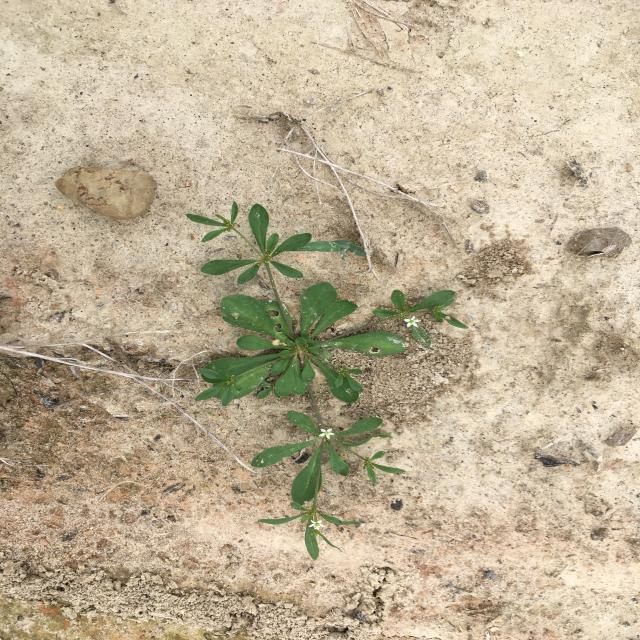Carpetweed: (185, 200, 469, 560)
